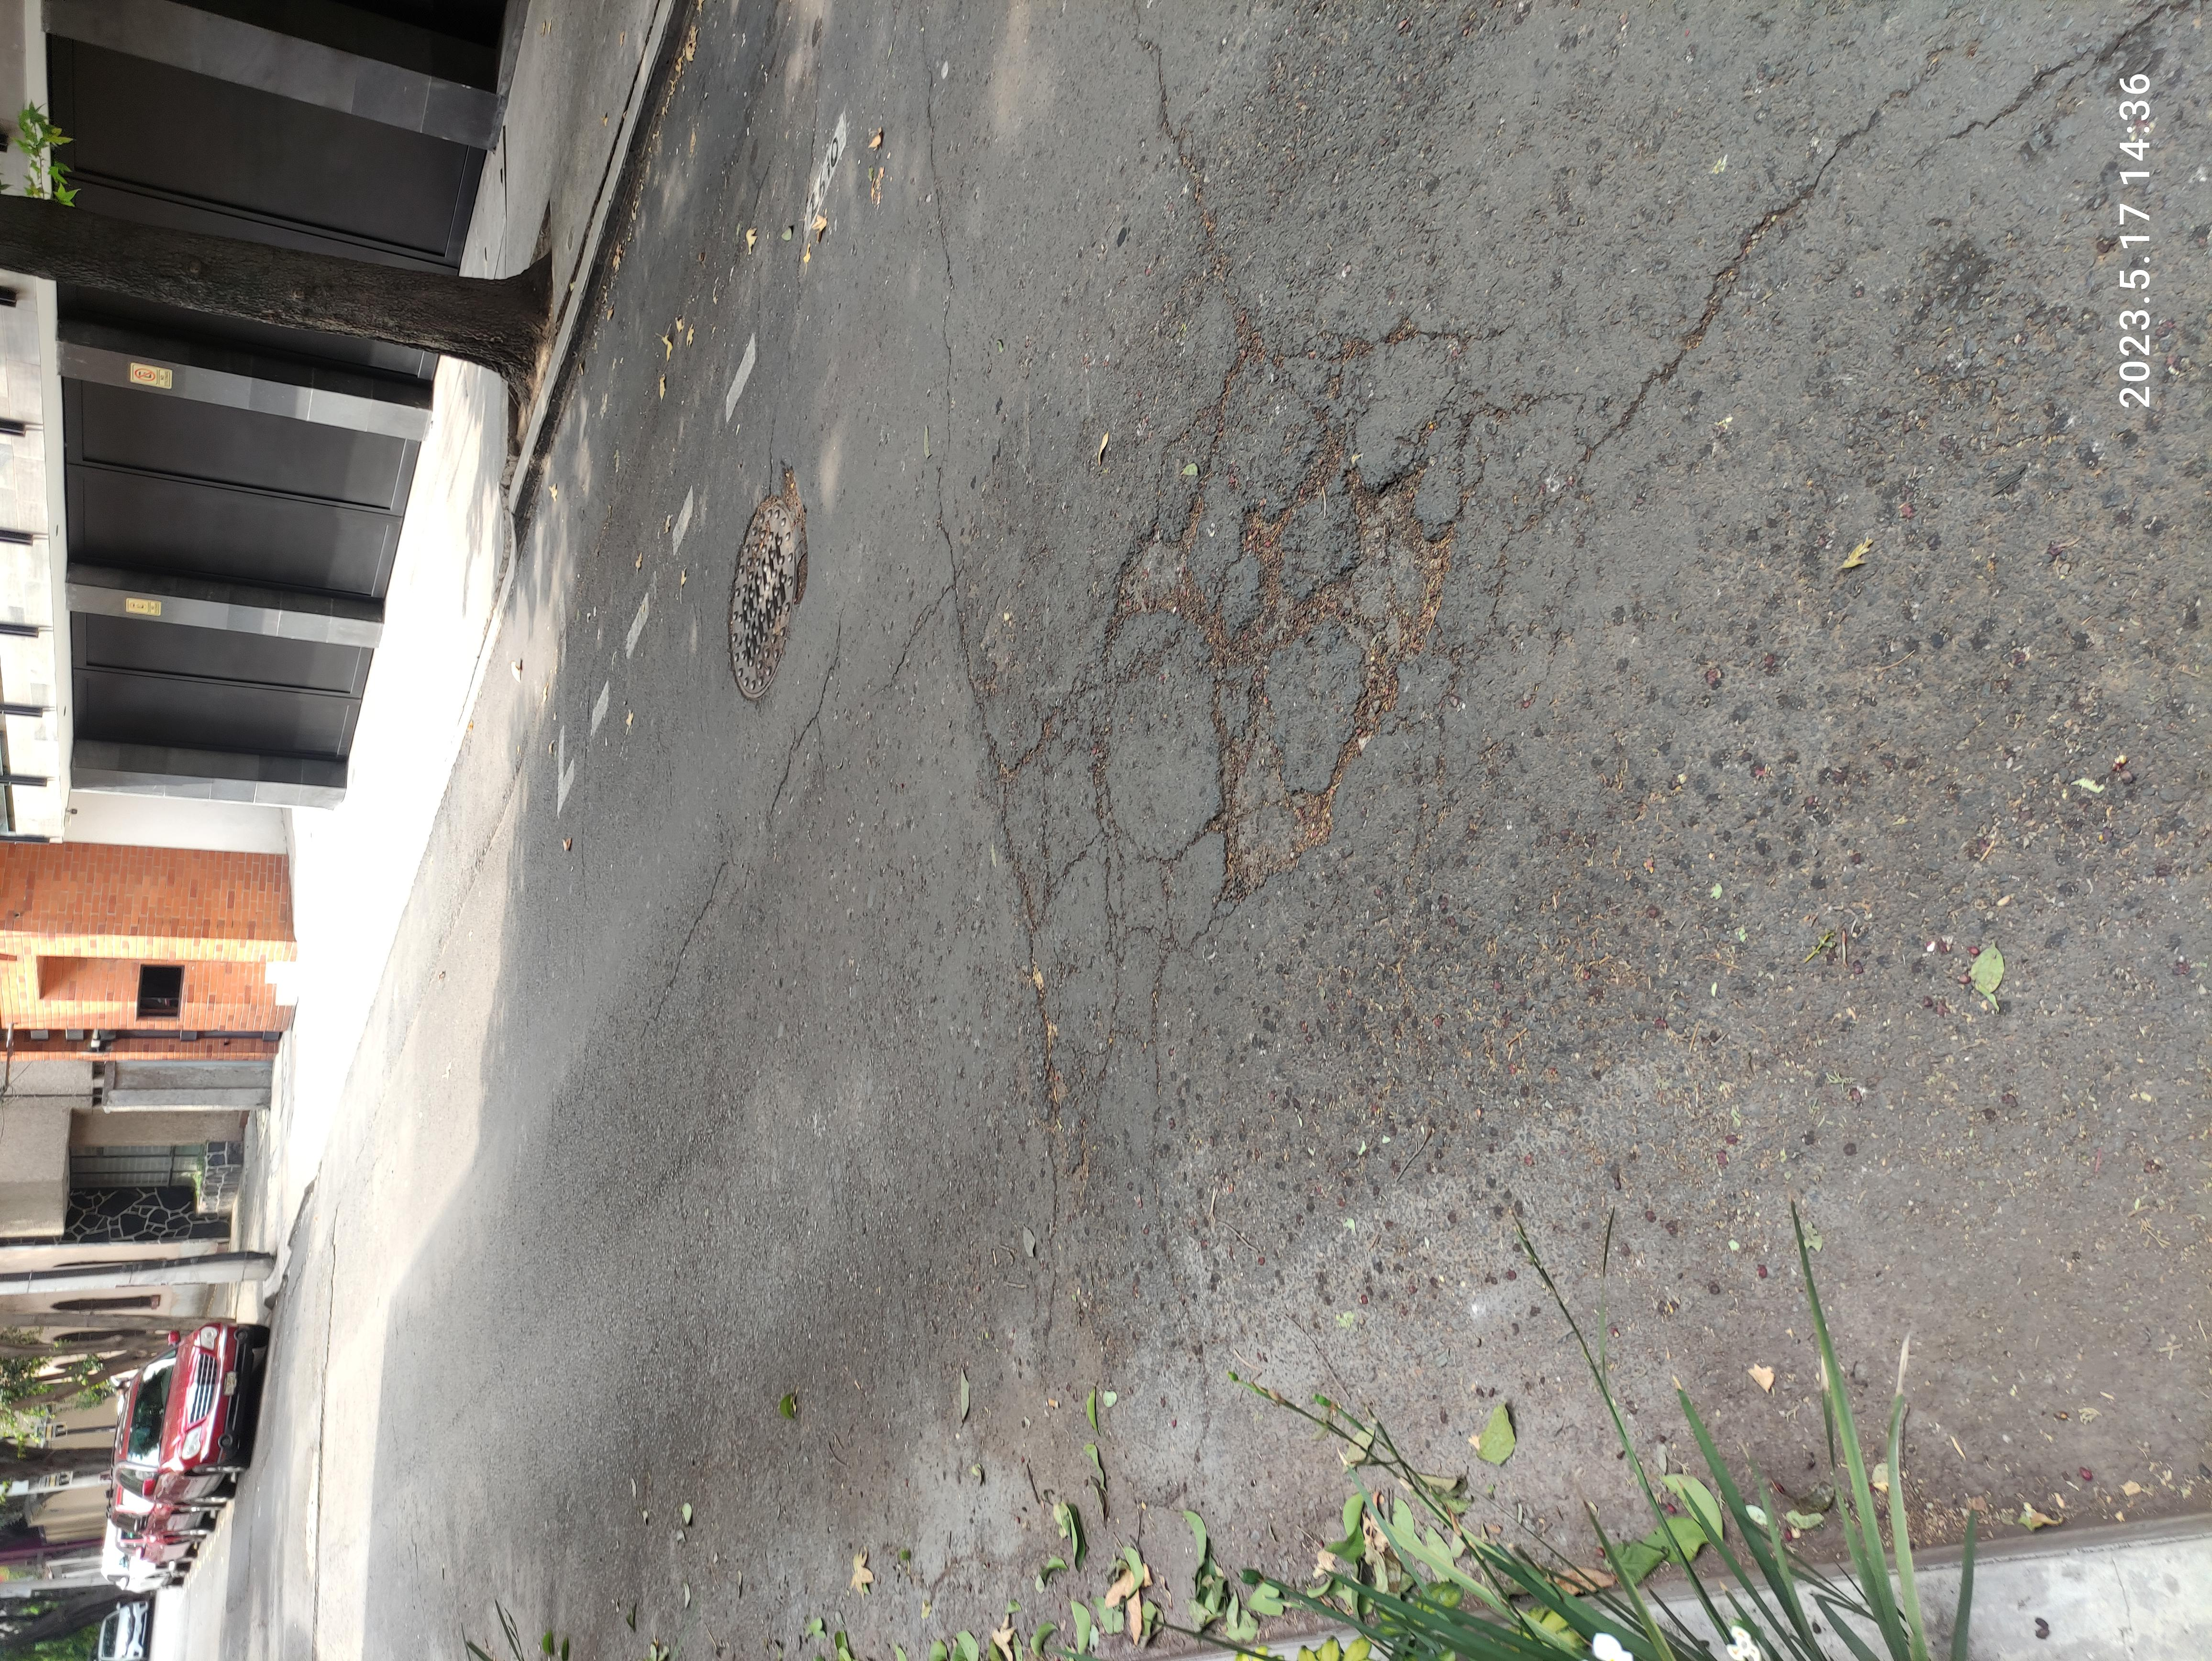alligator-crack: (892, 733, 1867, 1107)
crack: (1545, 1167, 2212, 1624), (1895, 841, 2212, 941), (1793, 674, 2211, 741)
